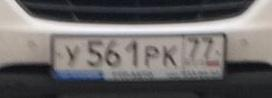license-plateSW: (50, 32, 227, 71)
